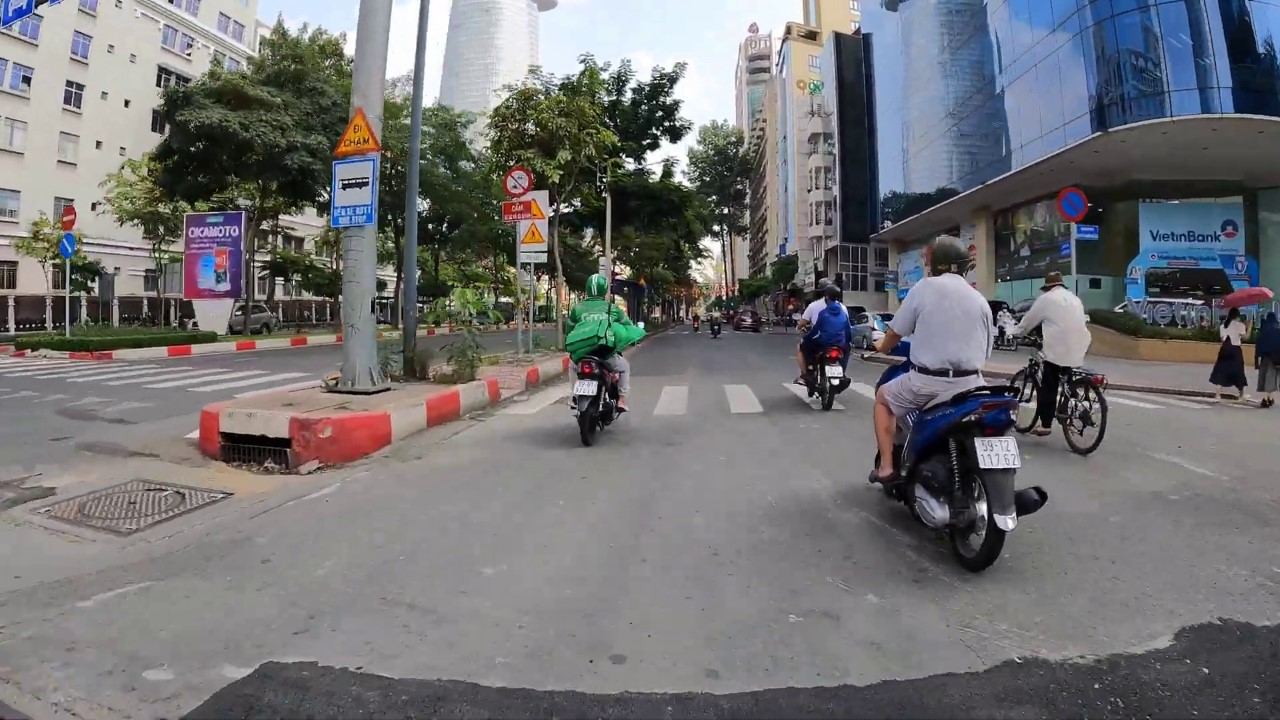cam_do_xe: (1056, 186, 1089, 222)
cam_nguoc_chieu: (61, 205, 77, 231)
can_than_nguoi_qua_duong: (520, 221, 545, 245)
di_cham: (332, 107, 381, 158)
huong_phai_di_vong: (59, 232, 76, 258)
